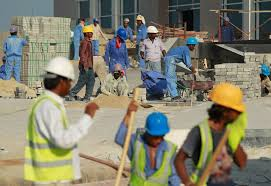Hard Hat: (208, 81, 245, 112), (44, 56, 75, 80), (143, 111, 171, 137), (146, 25, 159, 33), (117, 29, 128, 38), (186, 37, 196, 44), (82, 27, 94, 32), (9, 26, 17, 32), (134, 15, 143, 20)
High Viz: (30, 94, 72, 178), (133, 133, 172, 186), (194, 116, 212, 186)
